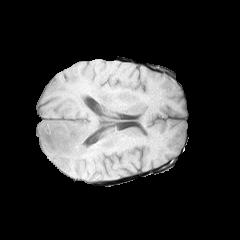glioma: (38, 92, 143, 170)
